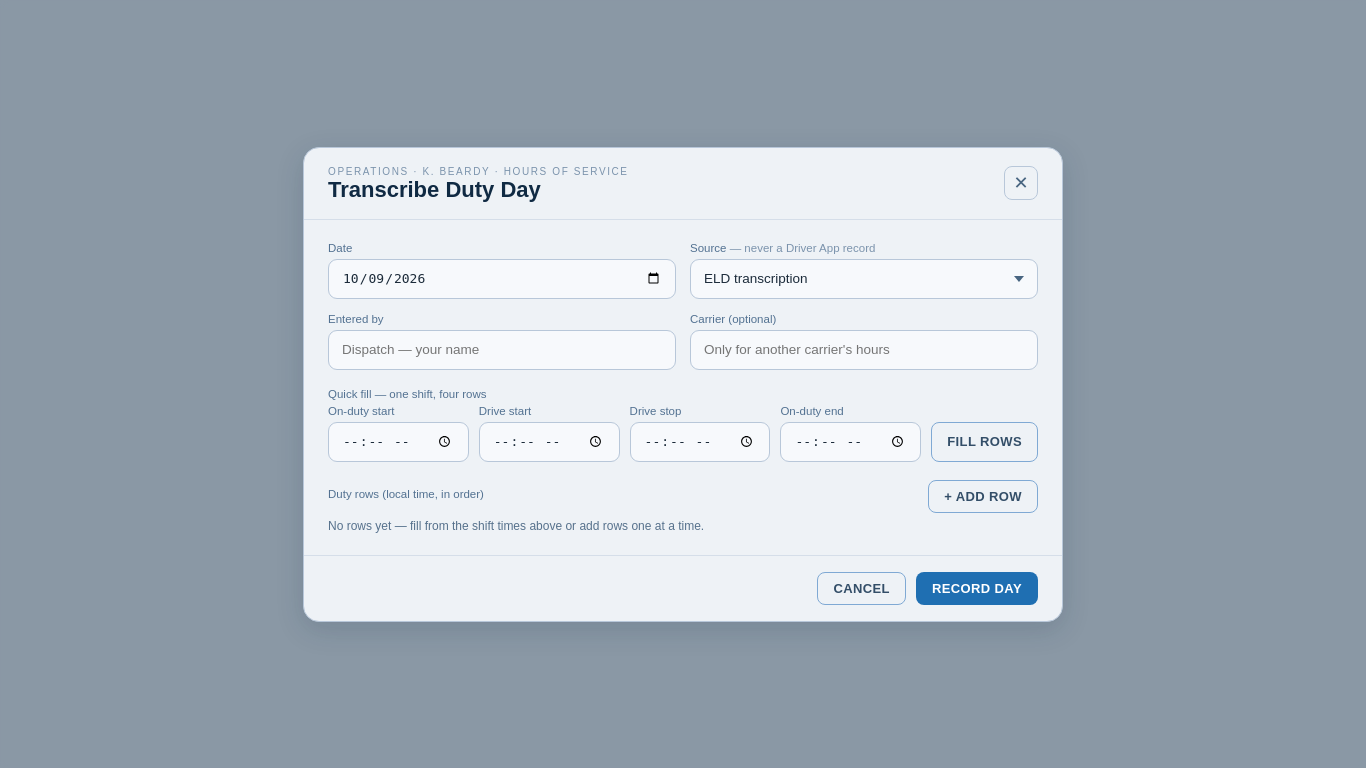
Scenario: DutyEventEntryModal › shows the server's message verbatim when the all-or-nothing write is refused
Type "06:00" into the time field below "On-duty start". click: (398, 442)
box: [328,422,469,462]
Type "06:30" into the time field below "Drive start". click: (549, 442)
box: [479,422,620,462]
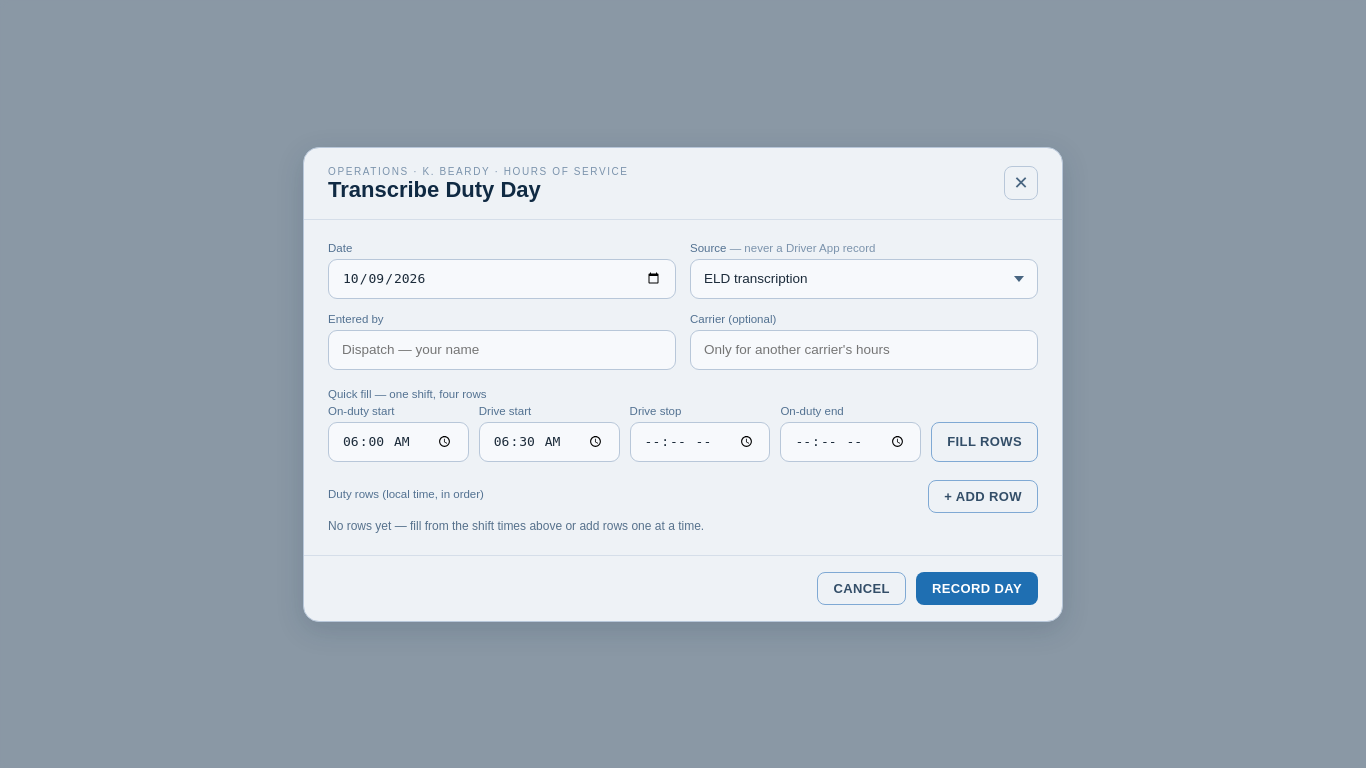
Type "14:00" into the time field below "Drive stop". click: (700, 442)
box: [630,422,770,462]
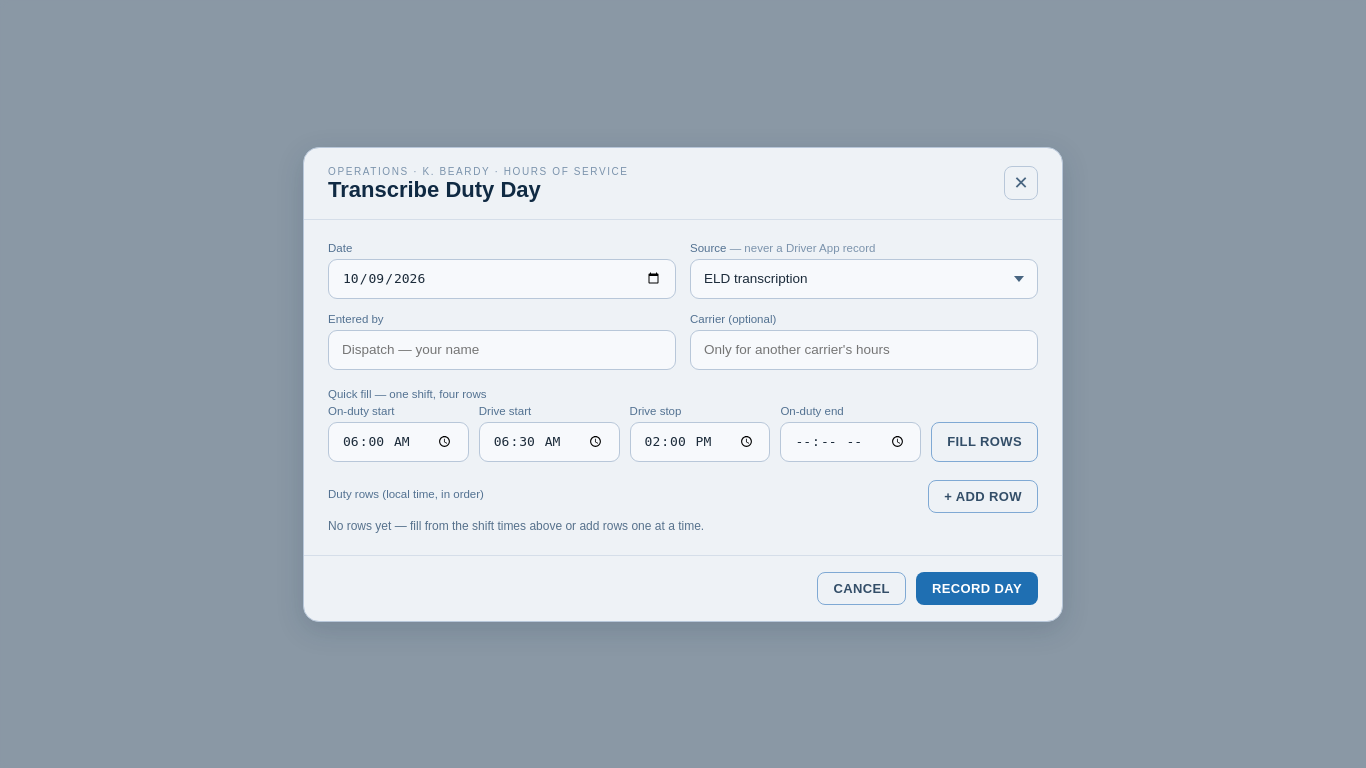
Type "14:30" into the time field below "On-duty end". click: (851, 442)
box: [780,422,921,462]
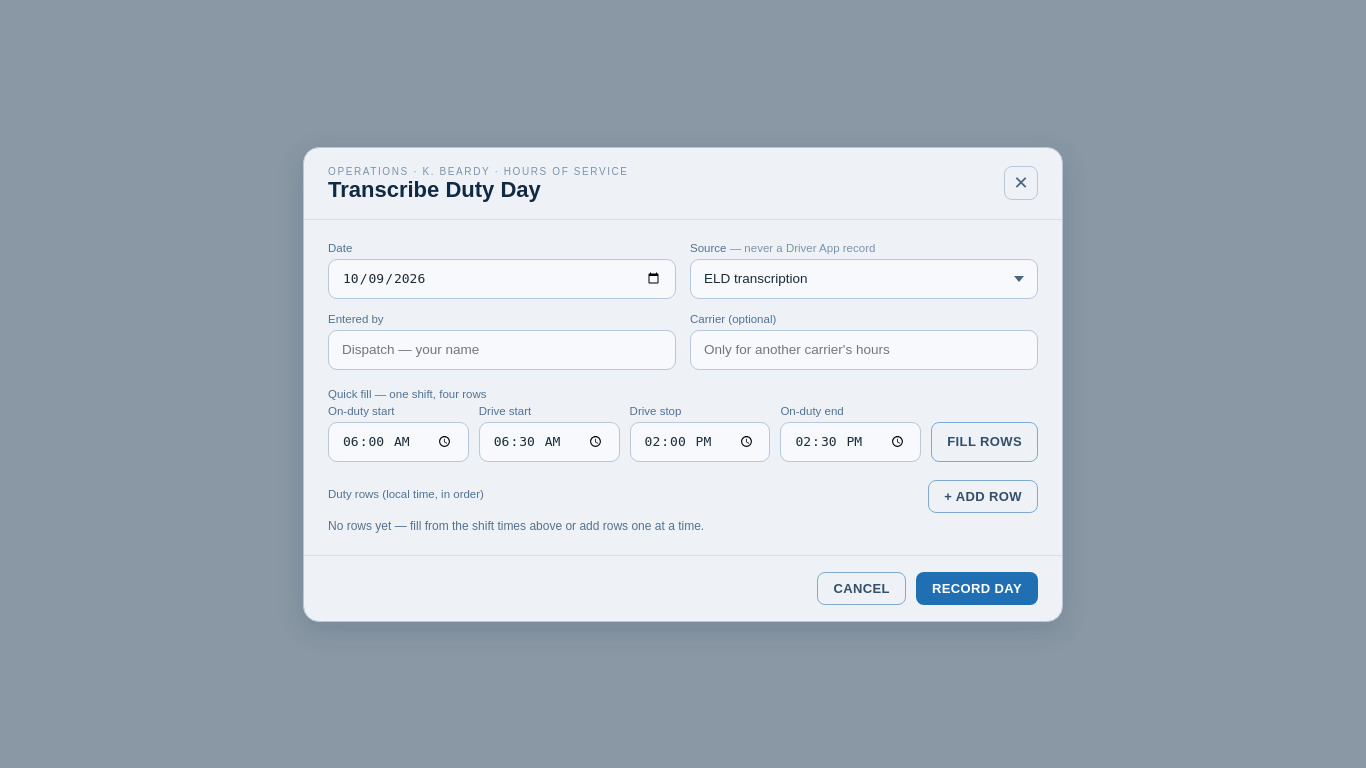
Click the text "FILL ROWS". click: (985, 442)
box: [931,422,1038,462]
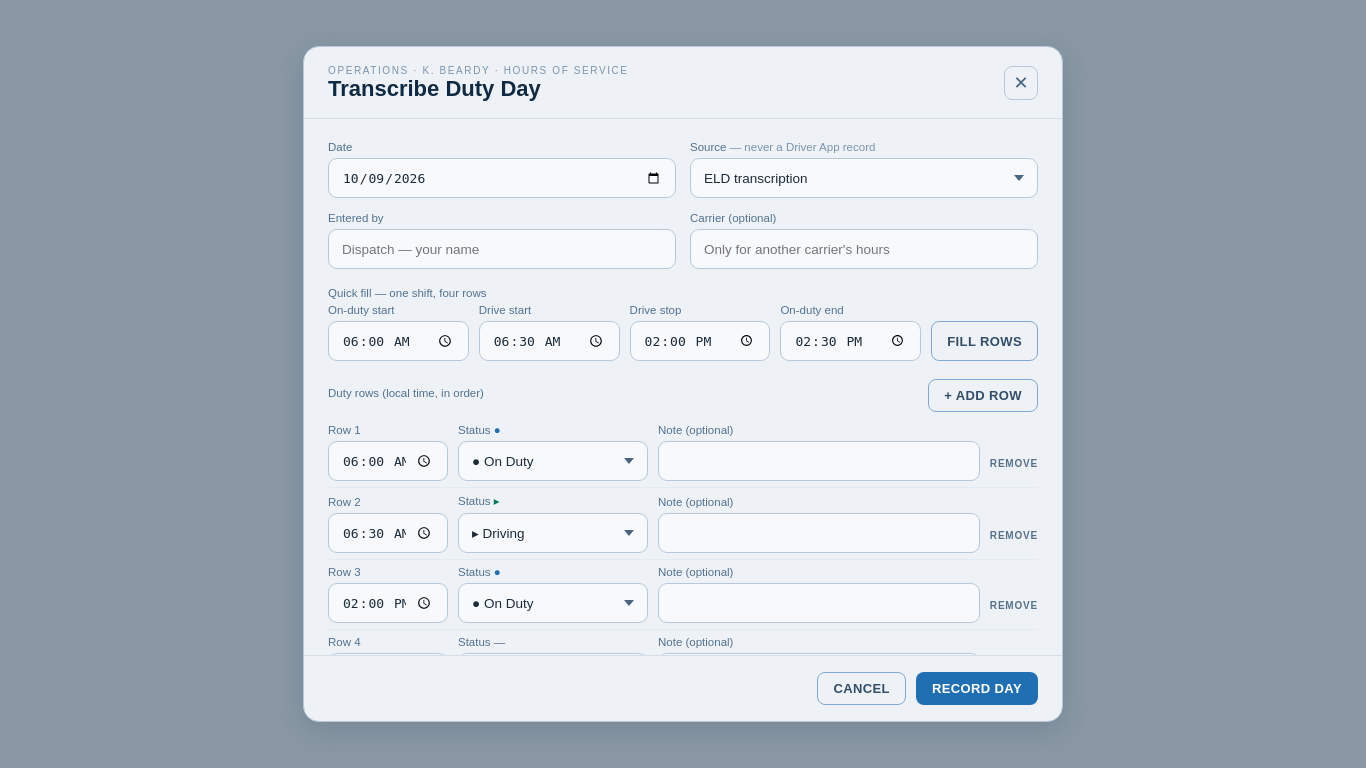
Type "L. Moose" into the field with placeholder "Dispatch — your name". click: (502, 249)
box: [328,229,676,269]
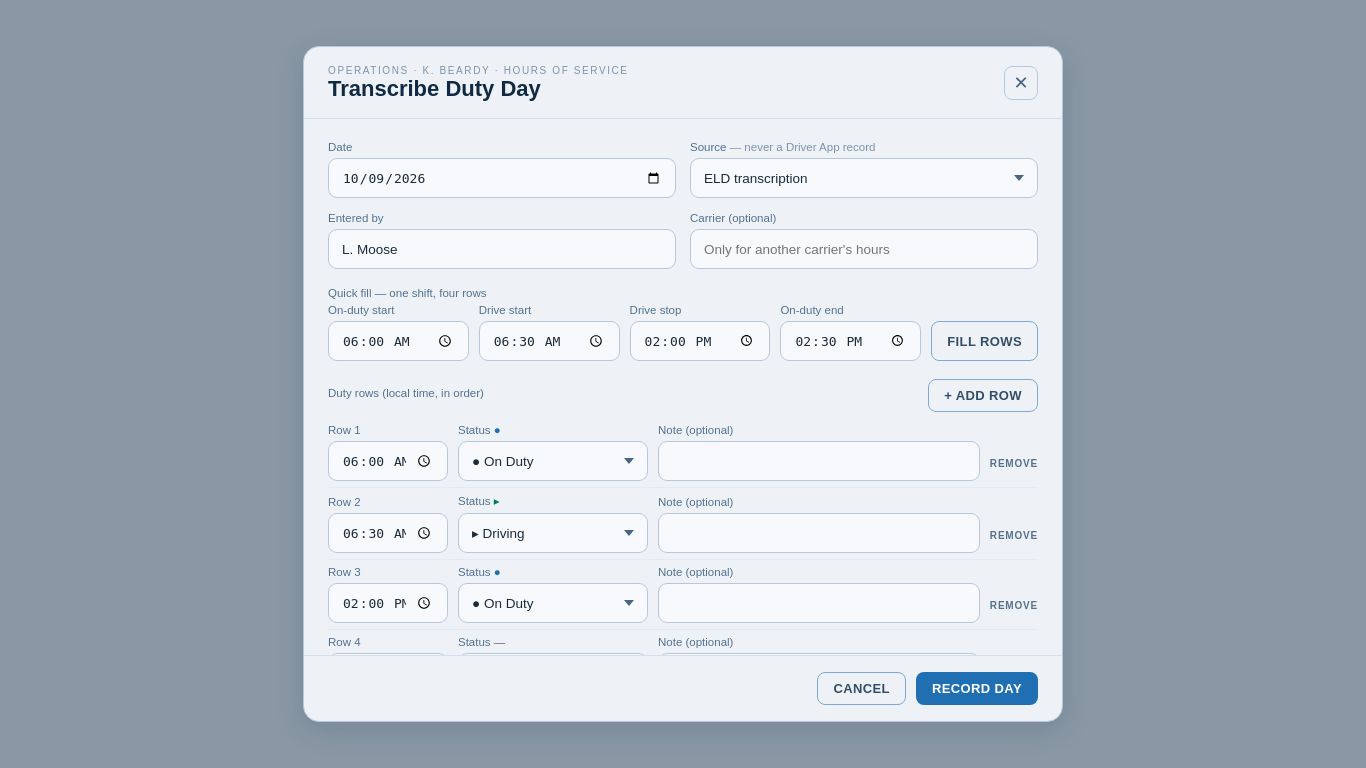
Click the text "RECORD DAY". click: (977, 688)
box: [916,672,1038,705]
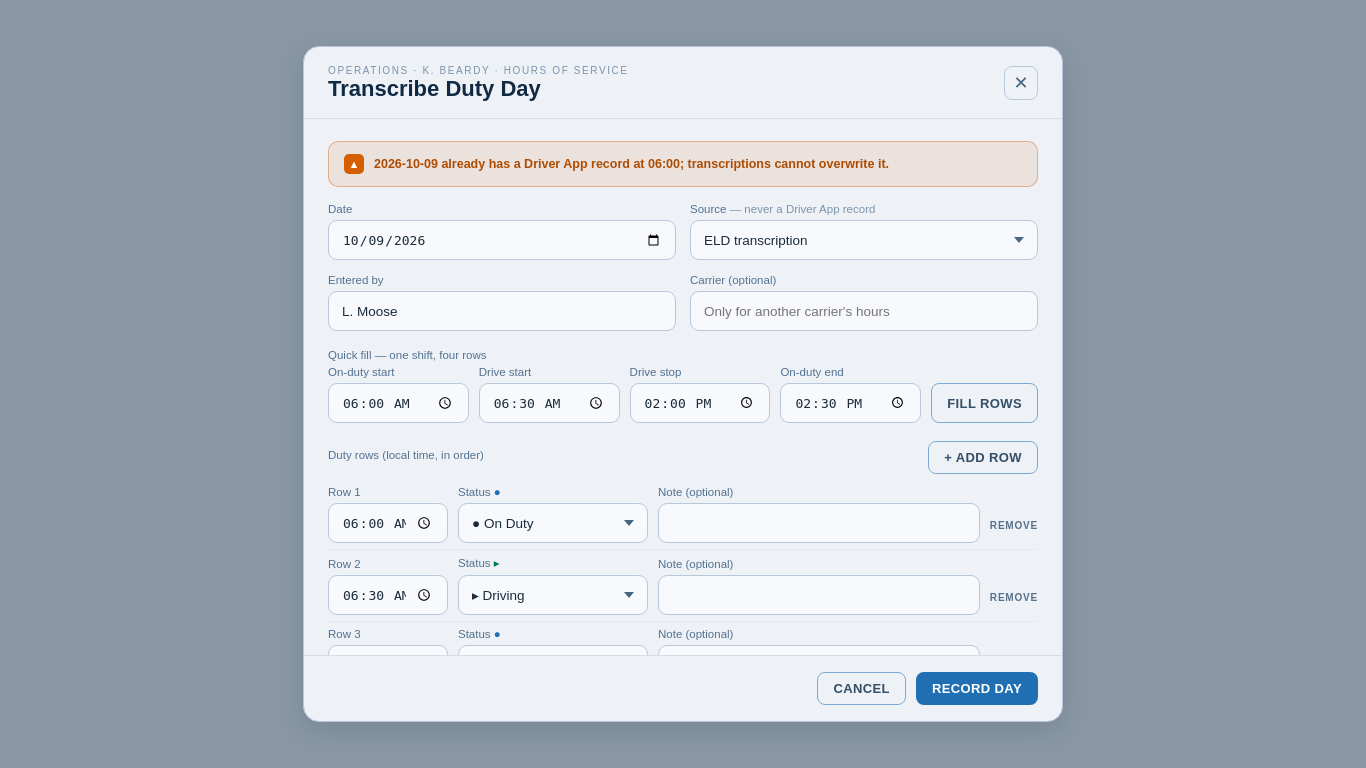
Result: the text "2026-10-09 already has a Driver App record at 06:00; transcriptions cannot overwrite it." is shown at [374,157,889,171]
